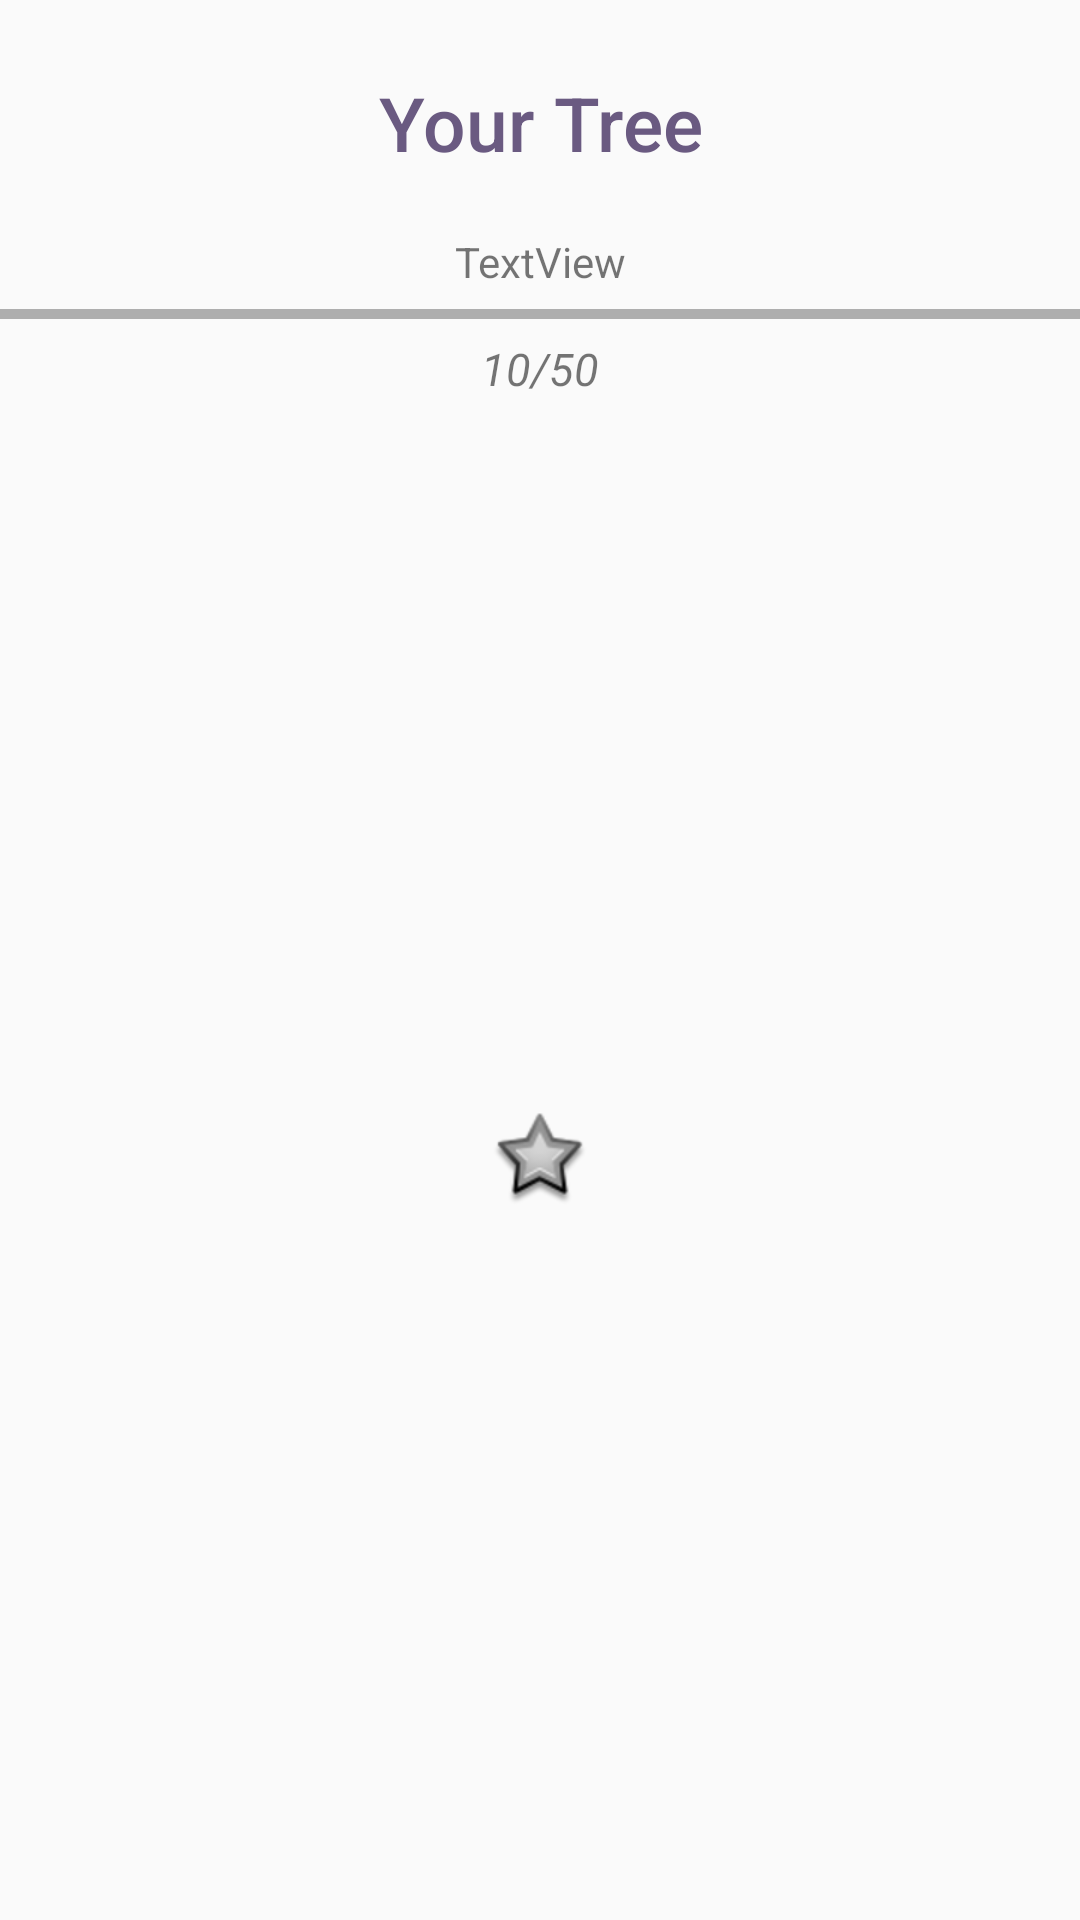

Screen size 1080×1920. Icon name, then its box in pixels as bbox(x1, y1, x2, y2):
star off: bbox(497, 1113, 583, 1200)
